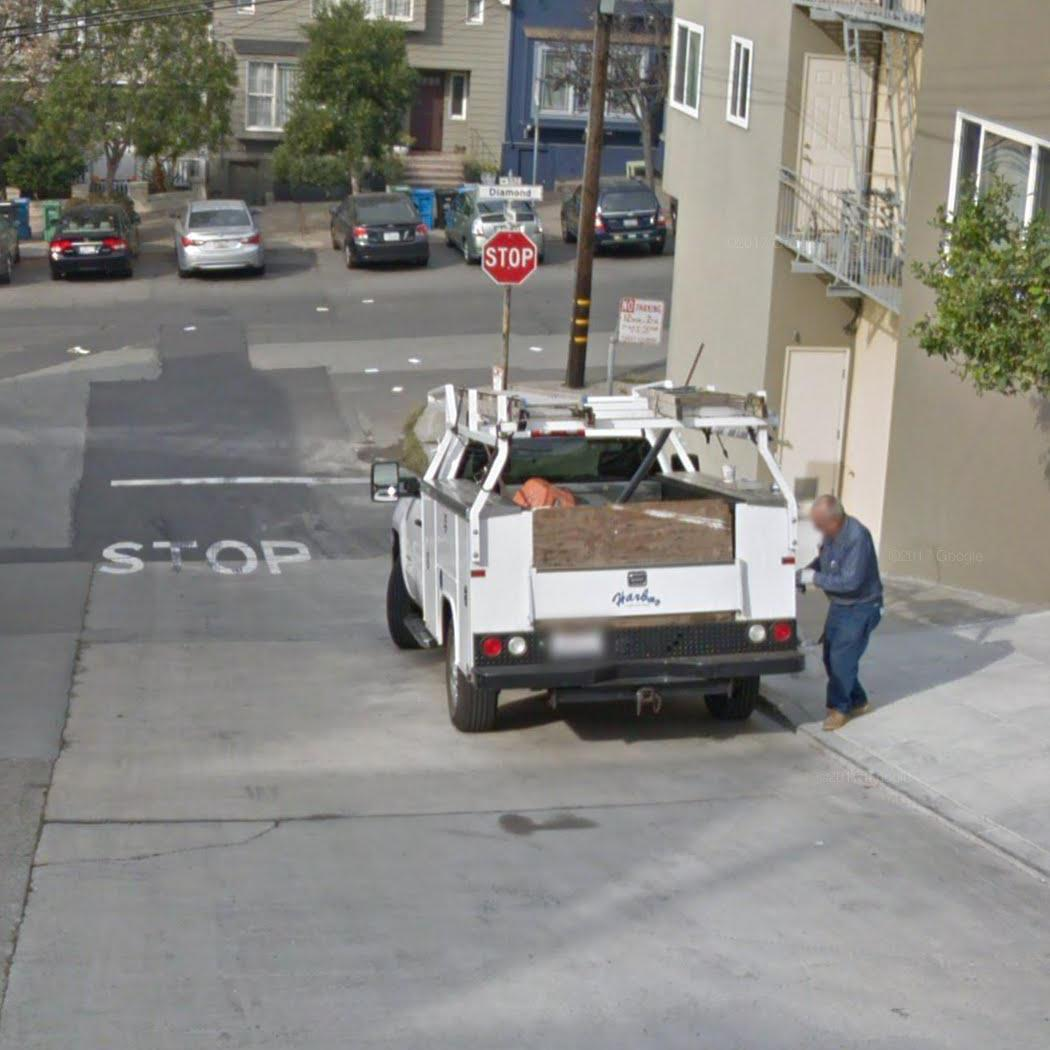No Parking: (614, 296, 665, 348)
